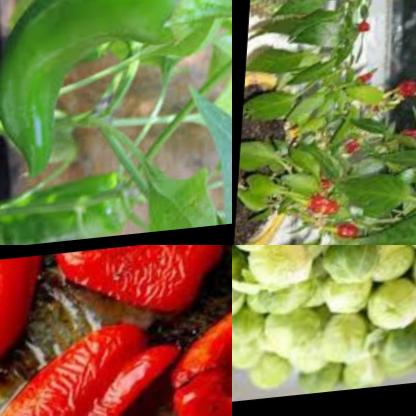bell pepper: (0, 325, 178, 416), (50, 245, 228, 327), (170, 290, 232, 416), (0, 257, 46, 383)
brus capusta: (232, 245, 416, 409)
hot pepper: (0, 0, 231, 186), (302, 166, 347, 226), (331, 216, 366, 245), (360, 64, 391, 94), (346, 135, 374, 165), (392, 81, 416, 109), (355, 21, 380, 42), (397, 129, 416, 150)
